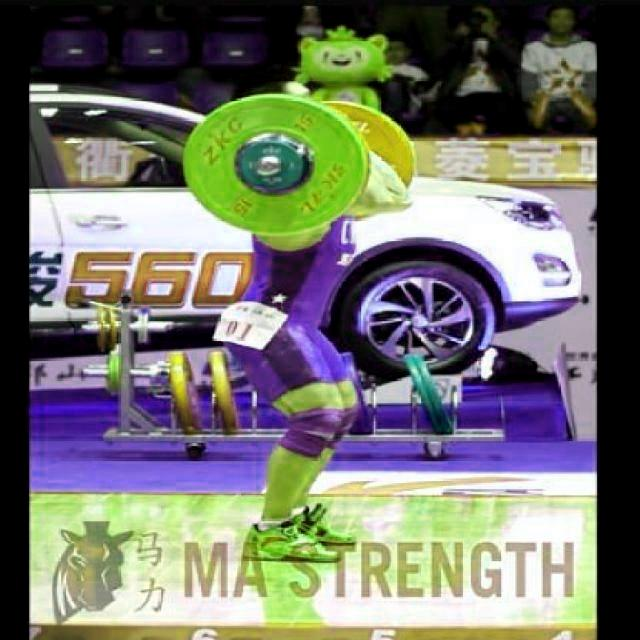barbell: (175, 93, 370, 238)
